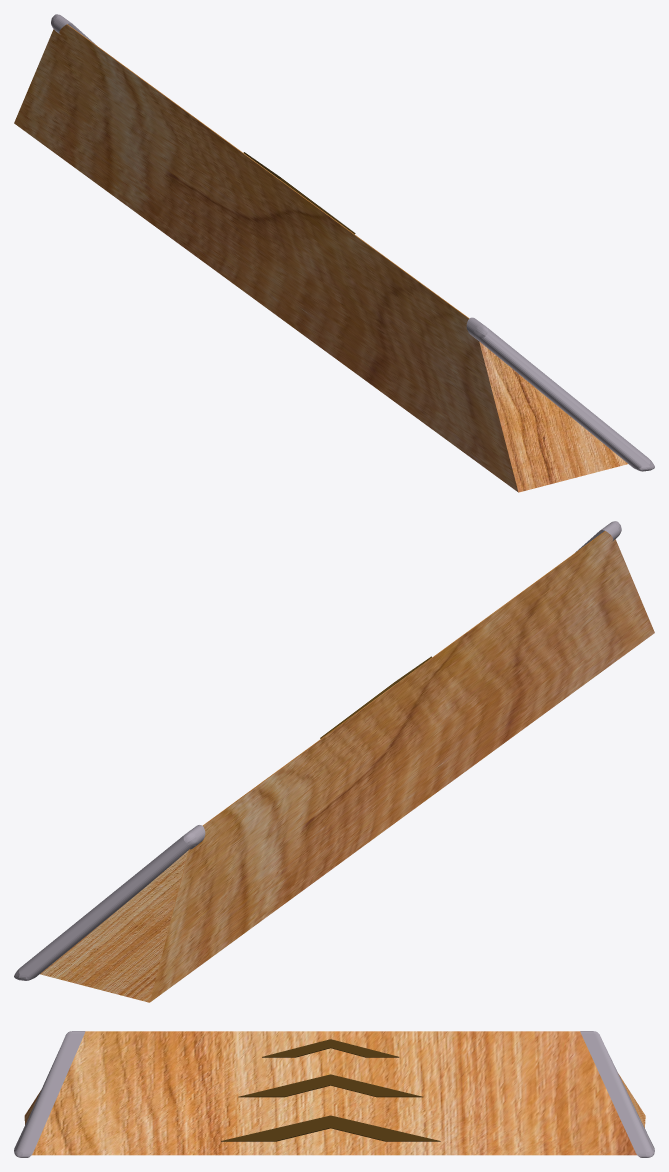
The model's file is RumpLong.fbx.
3 renders of one model, top to bottom at view 1: azimuth 30°, elevation 25°; view 2: azimuth 150°, elevation 25°; view 3: azimuth 270°, elevation 25°, orthographic. The views are drawn at different scales.
Parts seen in each view (by area): view 1: Cube, Cube.004; view 2: Cube, Cube.004; view 3: Cube, Cube.004, Cube.003, Cube.002, Cube.001.
Boxes of the visible parts, x1=… form: Cube: x1=14, y1=24, x2=627, y2=492; Cube.004: x1=51, y1=14, x2=654, y2=471; Cube: x1=40, y1=531, x2=654, y2=1002; Cube.004: x1=14, y1=521, x2=621, y2=980; Cube: x1=24, y1=1031, x2=645, y2=1155; Cube.004: x1=14, y1=1031, x2=654, y2=1157; Cube.003: x1=221, y1=1115, x2=440, y2=1141; Cube.002: x1=238, y1=1074, x2=422, y2=1097; Cube.001: x1=262, y1=1039, x2=399, y2=1057.
Size of the model in its own units: 209 by 208 by 1373.
Materials: 3 (1 with a texture image).
